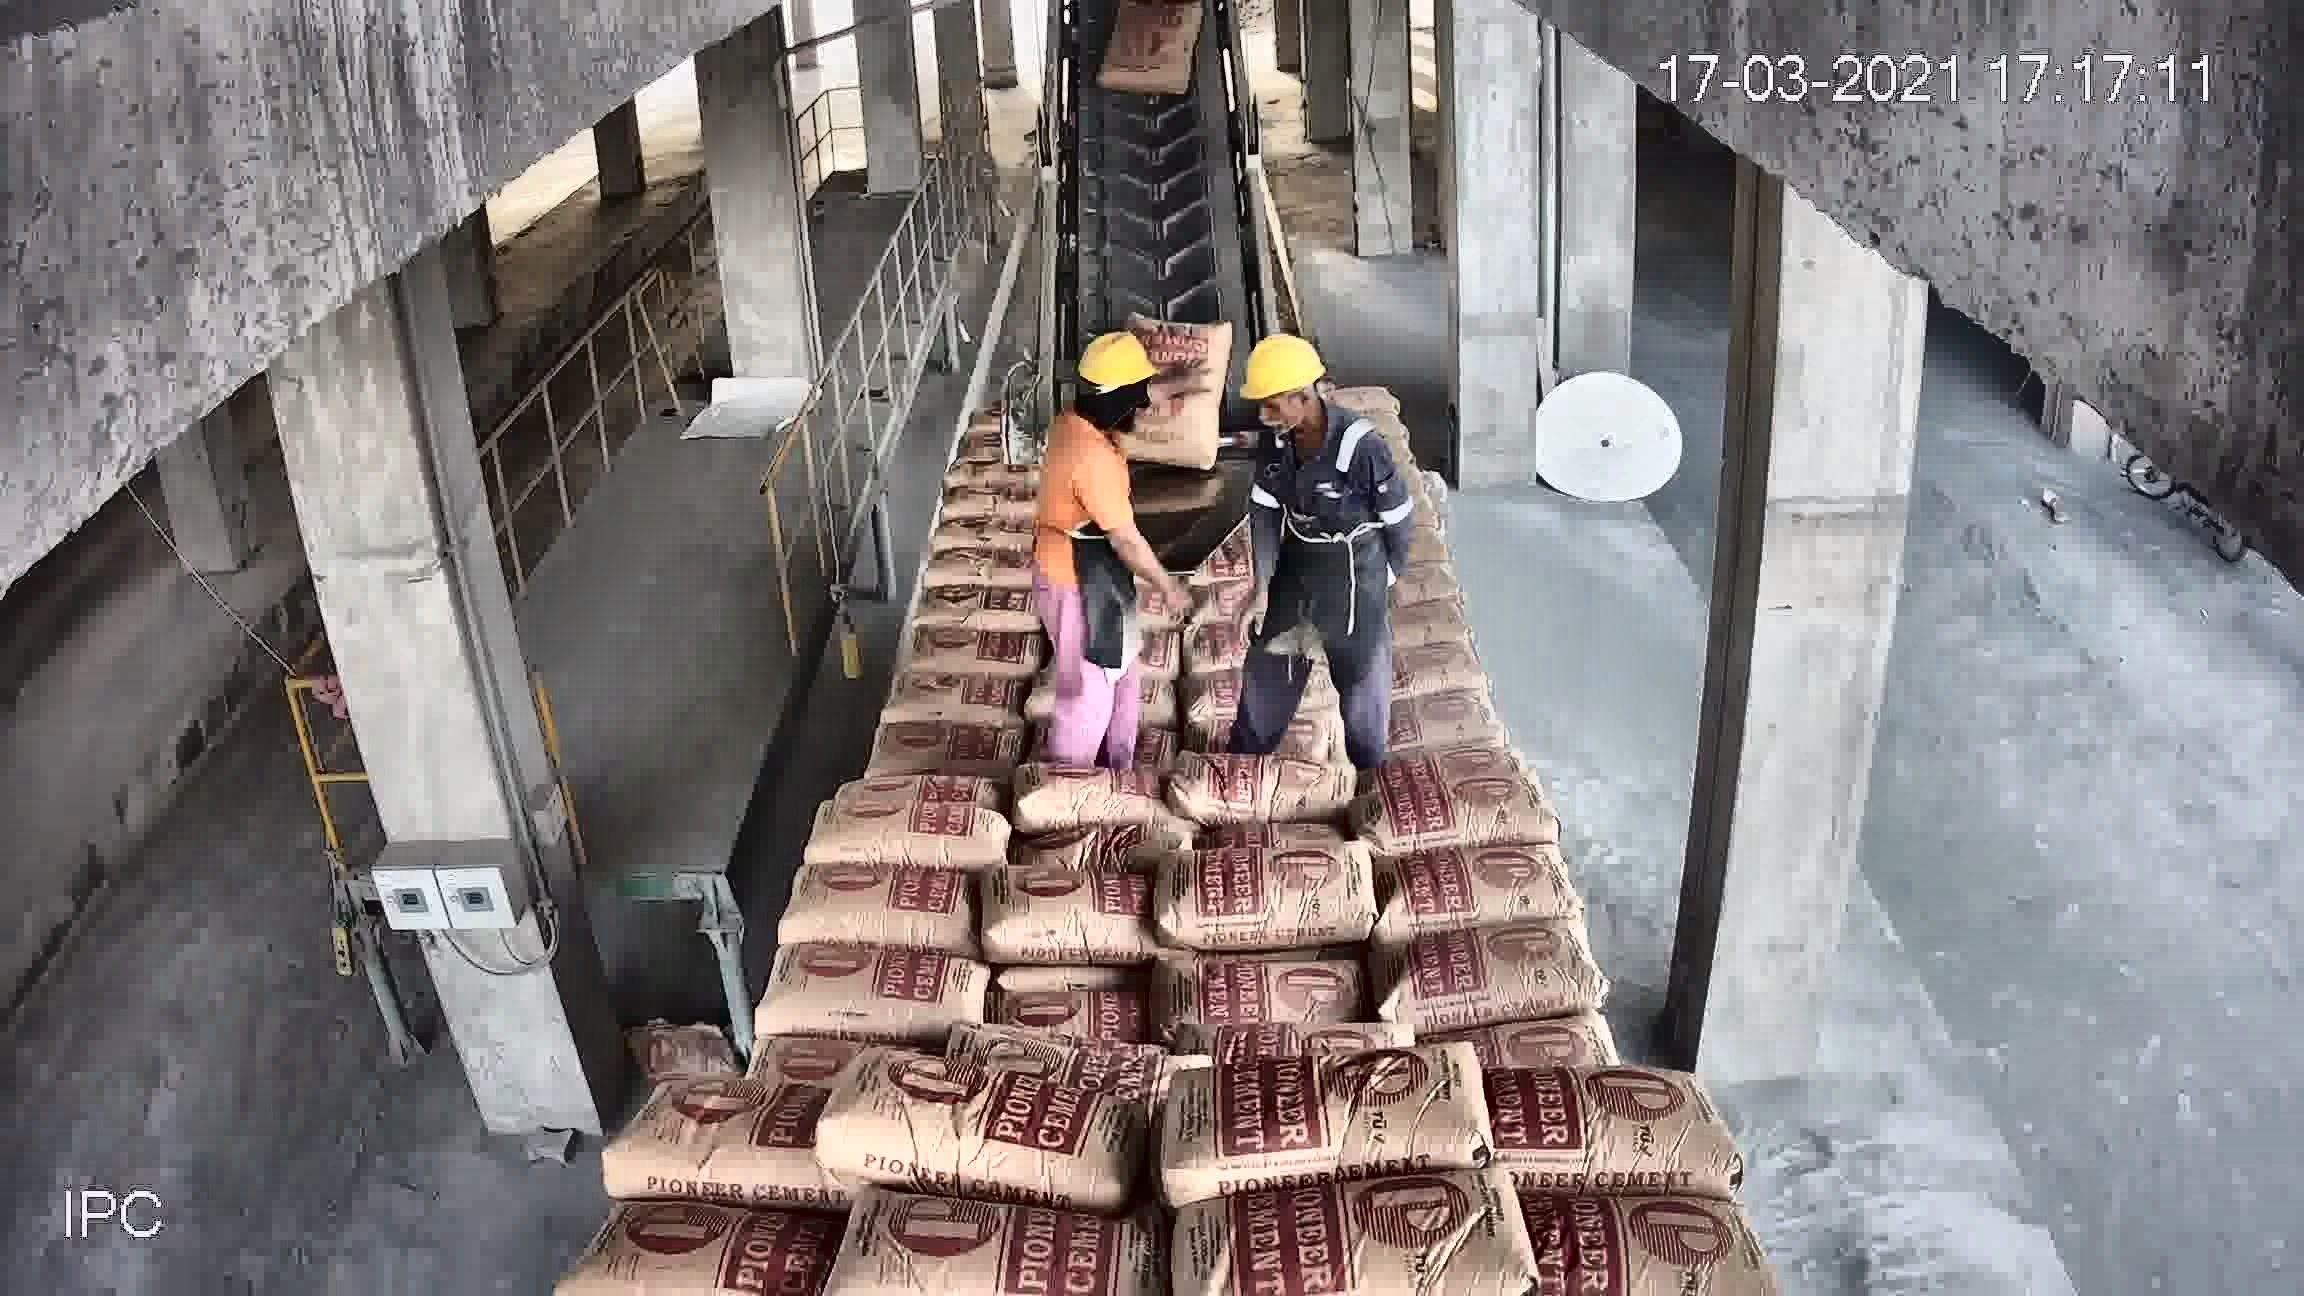bag: (1105, 5, 1203, 87)
bag_h: (1152, 1030, 1487, 1195), (815, 1046, 1147, 1199), (1468, 1059, 1745, 1193), (603, 1074, 817, 1207), (1244, 1207, 1560, 1296), (1163, 832, 1378, 959), (1374, 919, 1589, 1041), (1350, 829, 1581, 942), (1362, 916, 1608, 1021), (1489, 1184, 1747, 1275), (755, 938, 980, 1041), (1174, 983, 1397, 1070), (1412, 984, 1606, 1079), (779, 862, 976, 948), (984, 870, 1150, 967), (798, 794, 1014, 867), (1168, 748, 1355, 828), (623, 1226, 820, 1296), (991, 975, 1165, 1044), (1006, 812, 1184, 880), (880, 658, 1033, 731), (1419, 734, 1554, 813), (1014, 763, 1174, 823), (834, 766, 1005, 820), (864, 718, 1024, 775), (896, 623, 1041, 673), (1386, 687, 1505, 745), (908, 578, 1036, 628)
bag_v: (1120, 313, 1230, 464)
belt: (1036, 47, 1263, 525)
